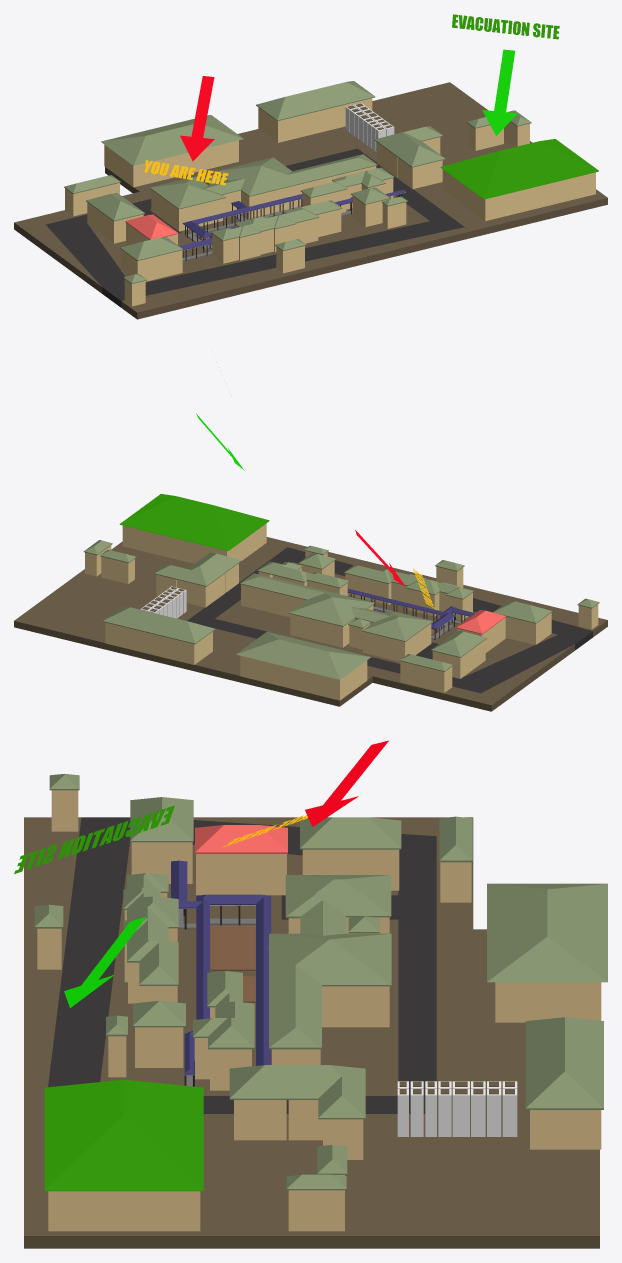
File: CIVILDEPARTMENT.glb
3 renders of one model, top to bottom at view 1: azimuth 30°, elevation 25°; view 2: azimuth 150°, elevation 25°; view 3: azimuth 270°, elevation 25°, orthographic. The views are drawn at different scales.
Visible parts, largest first — view 1: Toposolid Grassland - 1200mm [352516], Toposolid Grassland - 1200mm [354195], Basic Roof Generic - 125mm [387914], Basic Roof Generic - 125mm [384035], Basic Roof Generic - 125mm [378573], Basic Wall Generic - 200mm [355787], Basic Roof Generic - 125mm [385592], Basic Wall Generic - 200mm [355672], Basic Roof Generic - 125mm [385698], Basic Roof Generic - 125mm [387351], Basic Wall Generic - 200mm [355773], Basic Wall Generic - 200mm [357350] (+28 smaller); view 2: Toposolid Grassland - 1200mm [352516], Toposolid Grassland - 1200mm [354195], Basic Roof Generic - 125mm [387914], Basic Roof Generic - 125mm [384035], Basic Roof Generic - 125mm [378573], Basic Wall Generic - 200mm [355757], Basic Roof Generic - 125mm [385592], Basic Wall Generic - 200mm [355771], Basic Wall Generic - 200mm [355789], Basic Roof Generic - 125mm [387351], Basic Roof Generic - 125mm [385698], Basic Wall Generic - 200mm [357221] (+18 smaller); view 3: Toposolid Grassland - 1200mm [352516], Toposolid Grassland - 1200mm [354195], Basic Roof Generic - 125mm [387914], Basic Roof Generic - 125mm [384035], Basic Roof Generic - 125mm [378573], Toposolid Grassland - 1200mm [354195].001, Basic Roof Generic - 125mm [385592], Basic Wall Generic - 200mm [355788], Basic Roof Generic - 125mm [389243], Basic Roof Generic - 125mm [387351], Basic Roof Generic - 125mm [385698], Basic Wall Generic - 200mm [355719] (+31 smaller).
Boxes of the visible parts, left/top/right/bottom form: Toposolid Grassland - 1200mm [352516]: left=14, top=82, right=607, bottom=319; Toposolid Grassland - 1200mm [354195]: left=46, top=148, right=464, bottom=307; Basic Roof Generic - 125mm [387914]: left=440, top=139, right=598, bottom=199; Basic Roof Generic - 125mm [384035]: left=150, top=154, right=377, bottom=209; Basic Roof Generic - 125mm [378573]: left=101, top=115, right=243, bottom=165; Basic Wall Generic - 200mm [355787]: left=486, top=172, right=595, bottom=220; Basic Roof Generic - 125mm [385592]: left=256, top=81, right=375, bottom=121; Basic Wall Generic - 200mm [355672]: left=134, top=140, right=238, bottom=186; Basic Roof Generic - 125mm [385698]: left=211, top=200, right=342, bottom=241; Basic Roof Generic - 125mm [387351]: left=375, top=126, right=445, bottom=167; Basic Wall Generic - 200mm [355773]: left=279, top=98, right=372, bottom=142; Basic Wall Generic - 200mm [357350]: left=248, top=166, right=375, bottom=218; Toposolid Grassland - 1200mm [352516]: left=14, top=537, right=607, bottom=711; Toposolid Grassland - 1200mm [354195]: left=187, top=547, right=592, bottom=693; Basic Roof Generic - 125mm [387914]: left=119, top=494, right=269, bottom=550; Basic Roof Generic - 125mm [384035]: left=240, top=573, right=432, bottom=641; Basic Roof Generic - 125mm [378573]: left=236, top=631, right=370, bottom=679; Basic Wall Generic - 200mm [355757]: left=241, top=656, right=338, bottom=700; Basic Roof Generic - 125mm [385592]: left=102, top=606, right=215, bottom=644; Basic Wall Generic - 200mm [355771]: left=106, top=623, right=194, bottom=664; Basic Wall Generic - 200mm [355789]: left=123, top=526, right=227, bottom=563; Basic Roof Generic - 125mm [387351]: left=154, top=552, right=241, bottom=586; Basic Roof Generic - 125mm [385698]: left=344, top=565, right=473, bottom=599; Basic Wall Generic - 200mm [357221]: left=241, top=584, right=305, bottom=617; Toposolid Grassland - 1200mm [352516]: left=24, top=817, right=599, bottom=1248; Toposolid Grassland - 1200mm [354195]: left=48, top=817, right=436, bottom=1113; Basic Roof Generic - 125mm [387914]: left=44, top=1079, right=203, bottom=1191; Basic Roof Generic - 125mm [384035]: left=269, top=875, right=391, bottom=1049; Basic Roof Generic - 125mm [378573]: left=487, top=883, right=607, bottom=982; Toposolid Grassland - 1200mm [354195].001: left=48, top=818, right=129, bottom=1087; Basic Roof Generic - 125mm [385592]: left=525, top=1017, right=603, bottom=1109; Basic Wall Generic - 200mm [355788]: left=50, top=1191, right=200, bottom=1231; Basic Roof Generic - 125mm [389243]: left=171, top=860, right=271, bottom=1075; Basic Roof Generic - 125mm [387351]: left=229, top=1065, right=365, bottom=1119; Basic Roof Generic - 125mm [385698]: left=123, top=873, right=178, bottom=985; Basic Wall Generic - 200mm [355719]: left=497, top=982, right=601, bottom=1022.
Size of the model in its own units: 86 by 33.38 by 51.53.
